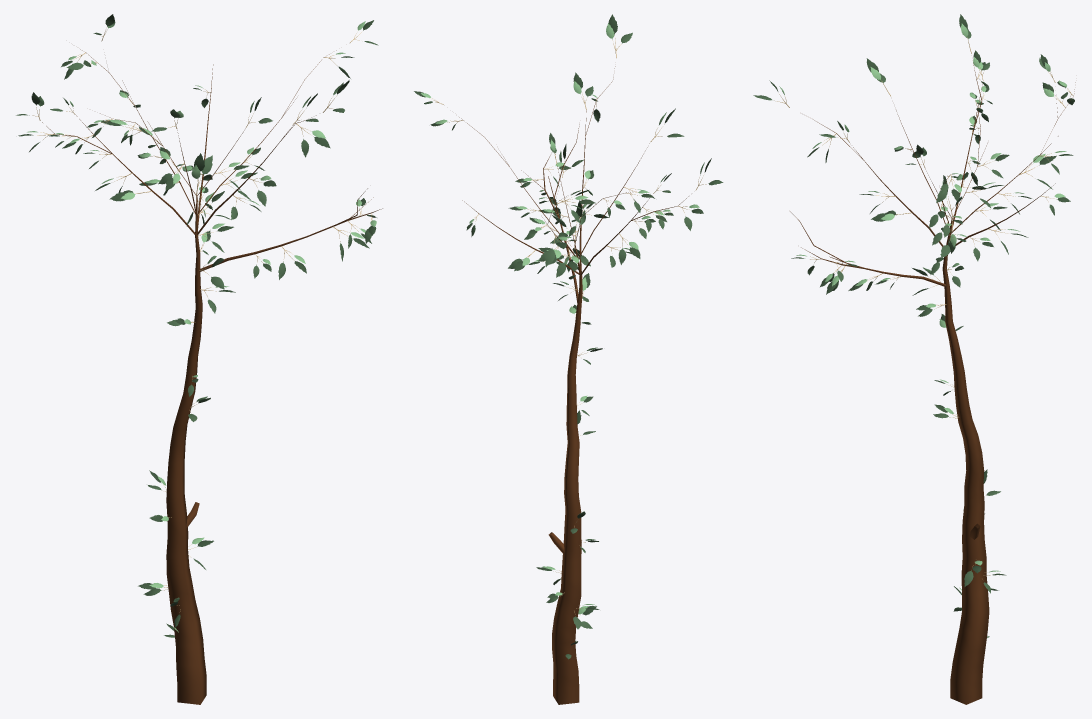
The model's file is Tree28.fbx.
The picture shows the model from 3 angles, left to right: view 1: azimuth 30°, elevation 25°; view 2: azimuth 150°, elevation 25°; view 3: azimuth 270°, elevation 25°; orthographic projection. The views are drawn at different scales.
Parts seen in each view (by area): view 1: Árbol.002; view 2: Árbol.002; view 3: Árbol.002.
Boxes of the visible parts, x1,y1,x2,y2 form: Árbol.002: (42,49,382,704); Árbol.002: (459,66,688,704); Árbol.002: (790,63,1075,704).
Size of the model in its own units: 675 by 1241 by 569.
